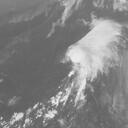cyclone: (64, 18, 122, 75)
